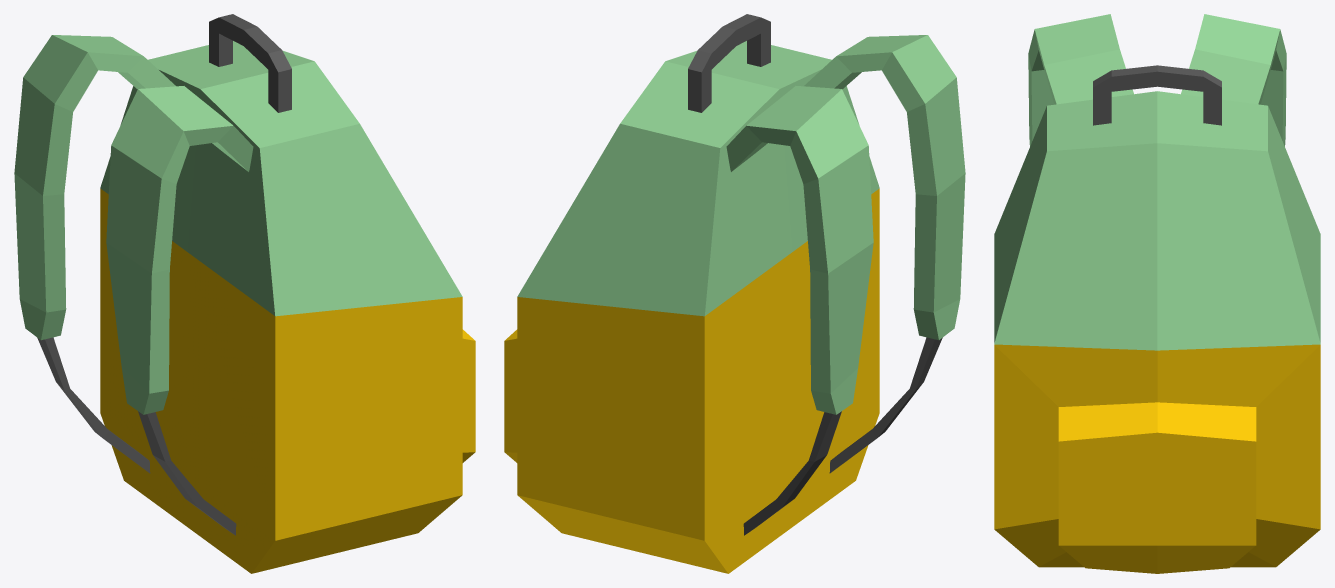
File: backpack.glb
3 views of the same model, side by side, from view 1: azimuth 30°, elevation 25°; view 2: azimuth 150°, elevation 25°; view 3: azimuth 270°, elevation 25° (orthographic). The views are drawn at different scales.
Visible parts, largest first — view 1: node-0; view 2: node-0; view 3: node-0.
Boxes of the visible parts, box(x1,y1,x2,y2) form: node-0: box(14, 14, 475, 573); node-0: box(504, 14, 965, 573); node-0: box(994, 14, 1320, 573).
Bounding box in the file's own units: 11.48 × 15.25 × 10.
